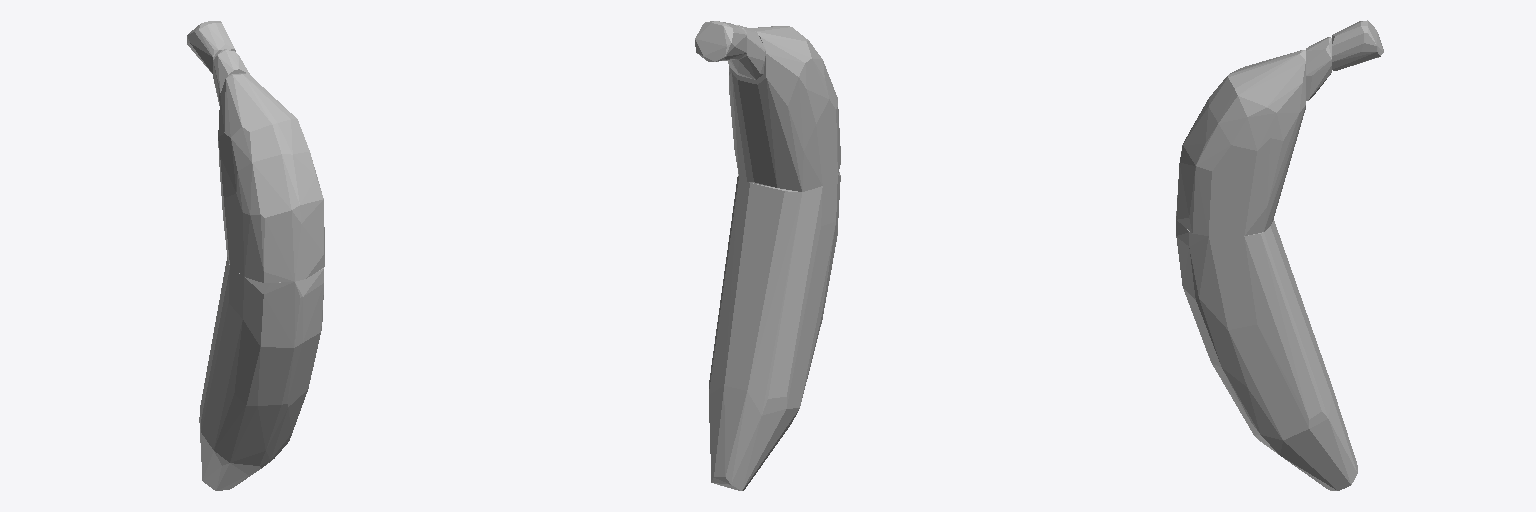
URDF robot description (root):
<robot name="root">
  <link name="link_e20b0f4726e07bd81246693279f28fd4_convex_piece_0">
    <inertial>
      <origin rpy="0 0 0" xyz="0 0 0"/>
      <mass value="1.70E-05"/>
      <inertia ixx="1.15E-08" ixy="2.77E-12" ixz="5.09E-12" iyy="1.11E-08" iyz="-3.56E-10" izz="1.27E-09"/>
    </inertial>
    <visual>
      <origin rpy="0 0 0" xyz="0 0 0"/>
      <geometry>
        <mesh filename="e20b0f4726e07bd81246693279f28fd4_convex_piece_0.obj" scale="1.0000E+00"/>
      </geometry>
      <material name="">
        <color rgba="7.50E-01 7.50E-01 7.50E-01 1"/>
      </material>
    </visual>
    <collision>
      <origin rpy="0 0 0" xyz="0 0 0"/>
      <geometry>
        <mesh filename="e20b0f4726e07bd81246693279f28fd4_convex_piece_0.obj" scale="1.0000E+00"/>
      </geometry>
    </collision>
  </link>
  <link name="link_e20b0f4726e07bd81246693279f28fd4_convex_piece_1">
    <inertial>
      <origin rpy="0 0 0" xyz="0 0 0"/>
      <mass value="9.86E-06"/>
      <inertia ixx="8.43E-09" ixy="1.71E-12" ixz="-2.85E-12" iyy="7.96E-09" iyz="-1.87E-09" izz="9.70E-10"/>
    </inertial>
    <visual>
      <origin rpy="0 0 0" xyz="0 0 0"/>
      <geometry>
        <mesh filename="e20b0f4726e07bd81246693279f28fd4_convex_piece_1.obj" scale="1.0000E+00"/>
      </geometry>
      <material name="">
        <color rgba="7.50E-01 7.50E-01 7.50E-01 1"/>
      </material>
    </visual>
    <collision>
      <origin rpy="0 0 0" xyz="0 0 0"/>
      <geometry>
        <mesh filename="e20b0f4726e07bd81246693279f28fd4_convex_piece_1.obj" scale="1.0000E+00"/>
      </geometry>
    </collision>
  </link>
  <joint name="link_e20b0f4726e07bd81246693279f28fd4_convex_piece_1_joint" type="fixed">
    <origin rpy="0 0 0" xyz="0 0 0"/>
    <parent link="link_e20b0f4726e07bd81246693279f28fd4_convex_piece_0"/>
    <child link="link_e20b0f4726e07bd81246693279f28fd4_convex_piece_1"/>
  </joint>
  <link name="link_e20b0f4726e07bd81246693279f28fd4_convex_piece_2">
    <inertial>
      <origin rpy="0 0 0" xyz="0 0 0"/>
      <mass value="2.97E-07"/>
      <inertia ixx="6.43E-10" ixy="1.70E-13" ixz="7.97E-13" iyy="6.34E-10" iyz="1.14E-10" izz="1.19E-11"/>
    </inertial>
    <visual>
      <origin rpy="0 0 0" xyz="0 0 0"/>
      <geometry>
        <mesh filename="e20b0f4726e07bd81246693279f28fd4_convex_piece_2.obj" scale="1.0000E+00"/>
      </geometry>
      <material name="">
        <color rgba="7.50E-01 7.50E-01 7.50E-01 1"/>
      </material>
    </visual>
    <collision>
      <origin rpy="0 0 0" xyz="0 0 0"/>
      <geometry>
        <mesh filename="e20b0f4726e07bd81246693279f28fd4_convex_piece_2.obj" scale="1.0000E+00"/>
      </geometry>
    </collision>
  </link>
  <joint name="link_e20b0f4726e07bd81246693279f28fd4_convex_piece_2_joint" type="fixed">
    <origin rpy="0 0 0" xyz="0 0 0"/>
    <parent link="link_e20b0f4726e07bd81246693279f28fd4_convex_piece_1"/>
    <child link="link_e20b0f4726e07bd81246693279f28fd4_convex_piece_2"/>
  </joint>
  <link name="link_e20b0f4726e07bd81246693279f28fd4_convex_piece_3">
    <inertial>
      <origin rpy="0 0 0" xyz="0 0 0"/>
      <mass value="4.19E-07"/>
      <inertia ixx="1.21E-09" ixy="4.83E-13" ixz="1.51E-12" iyy="1.10E-09" iyz="3.61E-10" izz="1.09E-10"/>
    </inertial>
    <visual>
      <origin rpy="0 0 0" xyz="0 0 0"/>
      <geometry>
        <mesh filename="e20b0f4726e07bd81246693279f28fd4_convex_piece_3.obj" scale="1.0000E+00"/>
      </geometry>
      <material name="">
        <color rgba="7.50E-01 7.50E-01 7.50E-01 1"/>
      </material>
    </visual>
    <collision>
      <origin rpy="0 0 0" xyz="0 0 0"/>
      <geometry>
        <mesh filename="e20b0f4726e07bd81246693279f28fd4_convex_piece_3.obj" scale="1.0000E+00"/>
      </geometry>
    </collision>
  </link>
  <joint name="link_e20b0f4726e07bd81246693279f28fd4_convex_piece_3_joint" type="fixed">
    <origin rpy="0 0 0" xyz="0 0 0"/>
    <parent link="link_e20b0f4726e07bd81246693279f28fd4_convex_piece_2"/>
    <child link="link_e20b0f4726e07bd81246693279f28fd4_convex_piece_3"/>
  </joint>
</robot>

--- Render facts (derived) ---
The picture shows the robot from 3 angles, left to right: view 1: azimuth 30°, elevation 25°; view 2: azimuth 150°, elevation 25°; view 3: azimuth 270°, elevation 25°; orthographic projection.
Robot: root — 4 links, 3 joints (3 fixed); root link link_e20b0f4726e07bd81246693279f28fd4_convex_piece_0; default pose: all joints at 0.
Visible links, largest first — view 1: link_e20b0f4726e07bd81246693279f28fd4_convex_piece_0, link_e20b0f4726e07bd81246693279f28fd4_convex_piece_1, link_e20b0f4726e07bd81246693279f28fd4_convex_piece_3, link_e20b0f4726e07bd81246693279f28fd4_convex_piece_2; view 2: link_e20b0f4726e07bd81246693279f28fd4_convex_piece_0, link_e20b0f4726e07bd81246693279f28fd4_convex_piece_1, link_e20b0f4726e07bd81246693279f28fd4_convex_piece_3, link_e20b0f4726e07bd81246693279f28fd4_convex_piece_2; view 3: link_e20b0f4726e07bd81246693279f28fd4_convex_piece_0, link_e20b0f4726e07bd81246693279f28fd4_convex_piece_1, link_e20b0f4726e07bd81246693279f28fd4_convex_piece_3, link_e20b0f4726e07bd81246693279f28fd4_convex_piece_2.
Link boxes in pixels (left/top/right/bottom): link_e20b0f4726e07bd81246693279f28fd4_convex_piece_0: left=199, top=257, right=323, bottom=490; link_e20b0f4726e07bd81246693279f28fd4_convex_piece_1: left=218, top=73, right=324, bottom=282; link_e20b0f4726e07bd81246693279f28fd4_convex_piece_3: left=187, top=21, right=235, bottom=73; link_e20b0f4726e07bd81246693279f28fd4_convex_piece_2: left=213, top=49, right=249, bottom=105; link_e20b0f4726e07bd81246693279f28fd4_convex_piece_0: left=709, top=172, right=840, bottom=490; link_e20b0f4726e07bd81246693279f28fd4_convex_piece_1: left=729, top=26, right=840, bottom=191; link_e20b0f4726e07bd81246693279f28fd4_convex_piece_3: left=695, top=21, right=746, bottom=61; link_e20b0f4726e07bd81246693279f28fd4_convex_piece_2: left=727, top=25, right=765, bottom=79; link_e20b0f4726e07bd81246693279f28fd4_convex_piece_0: left=1176, top=220, right=1357, bottom=490; link_e20b0f4726e07bd81246693279f28fd4_convex_piece_1: left=1176, top=50, right=1305, bottom=235; link_e20b0f4726e07bd81246693279f28fd4_convex_piece_3: left=1332, top=20, right=1383, bottom=70; link_e20b0f4726e07bd81246693279f28fd4_convex_piece_2: left=1306, top=37, right=1331, bottom=100.
Size in the robot's own frame: 0.0201 by 0.0459 by 0.1133 metres.
4 mesh visuals loaded from 4 distinct referenced files (4 OBJ).